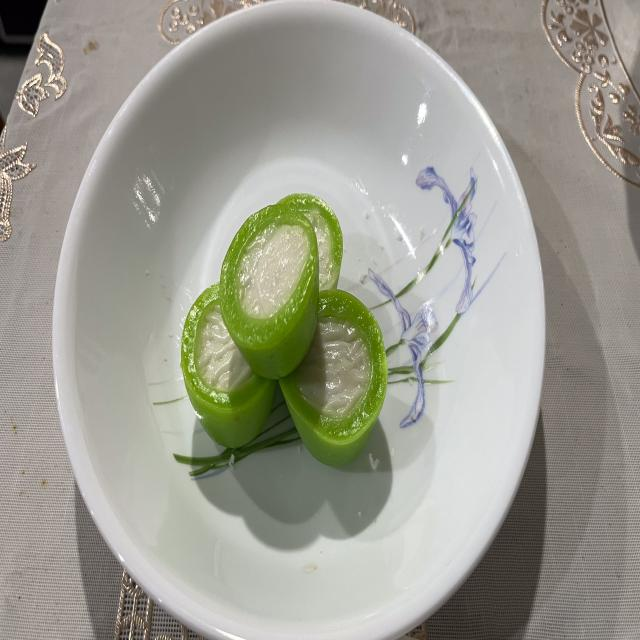nona-manis: (280, 289, 388, 467), (220, 202, 319, 380), (181, 284, 276, 449), (279, 193, 342, 291)
